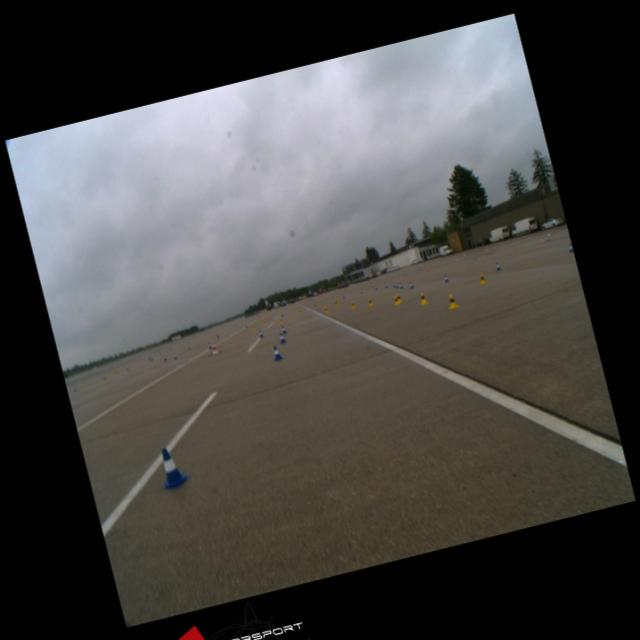blue_cone: (154, 444, 190, 489), (270, 344, 282, 360), (278, 331, 286, 343), (494, 261, 501, 270), (280, 324, 286, 334), (258, 328, 264, 338), (567, 243, 573, 252), (443, 274, 449, 282)
yellow_cone: (446, 292, 458, 309), (418, 292, 427, 304), (478, 272, 486, 284), (392, 295, 400, 305), (395, 292, 402, 302), (367, 297, 373, 306), (350, 300, 356, 308)
